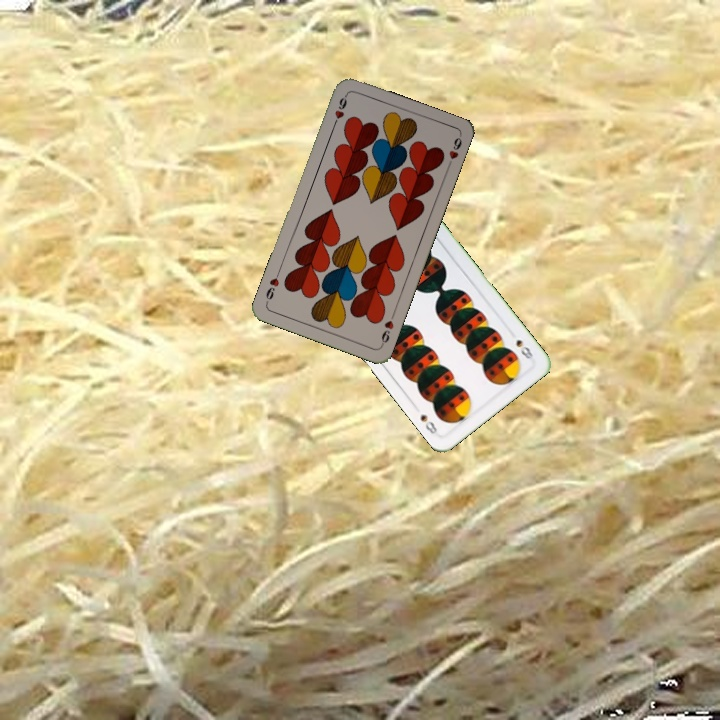H9: (377, 309, 398, 349), (329, 91, 350, 130)
S8: (512, 335, 538, 362)
